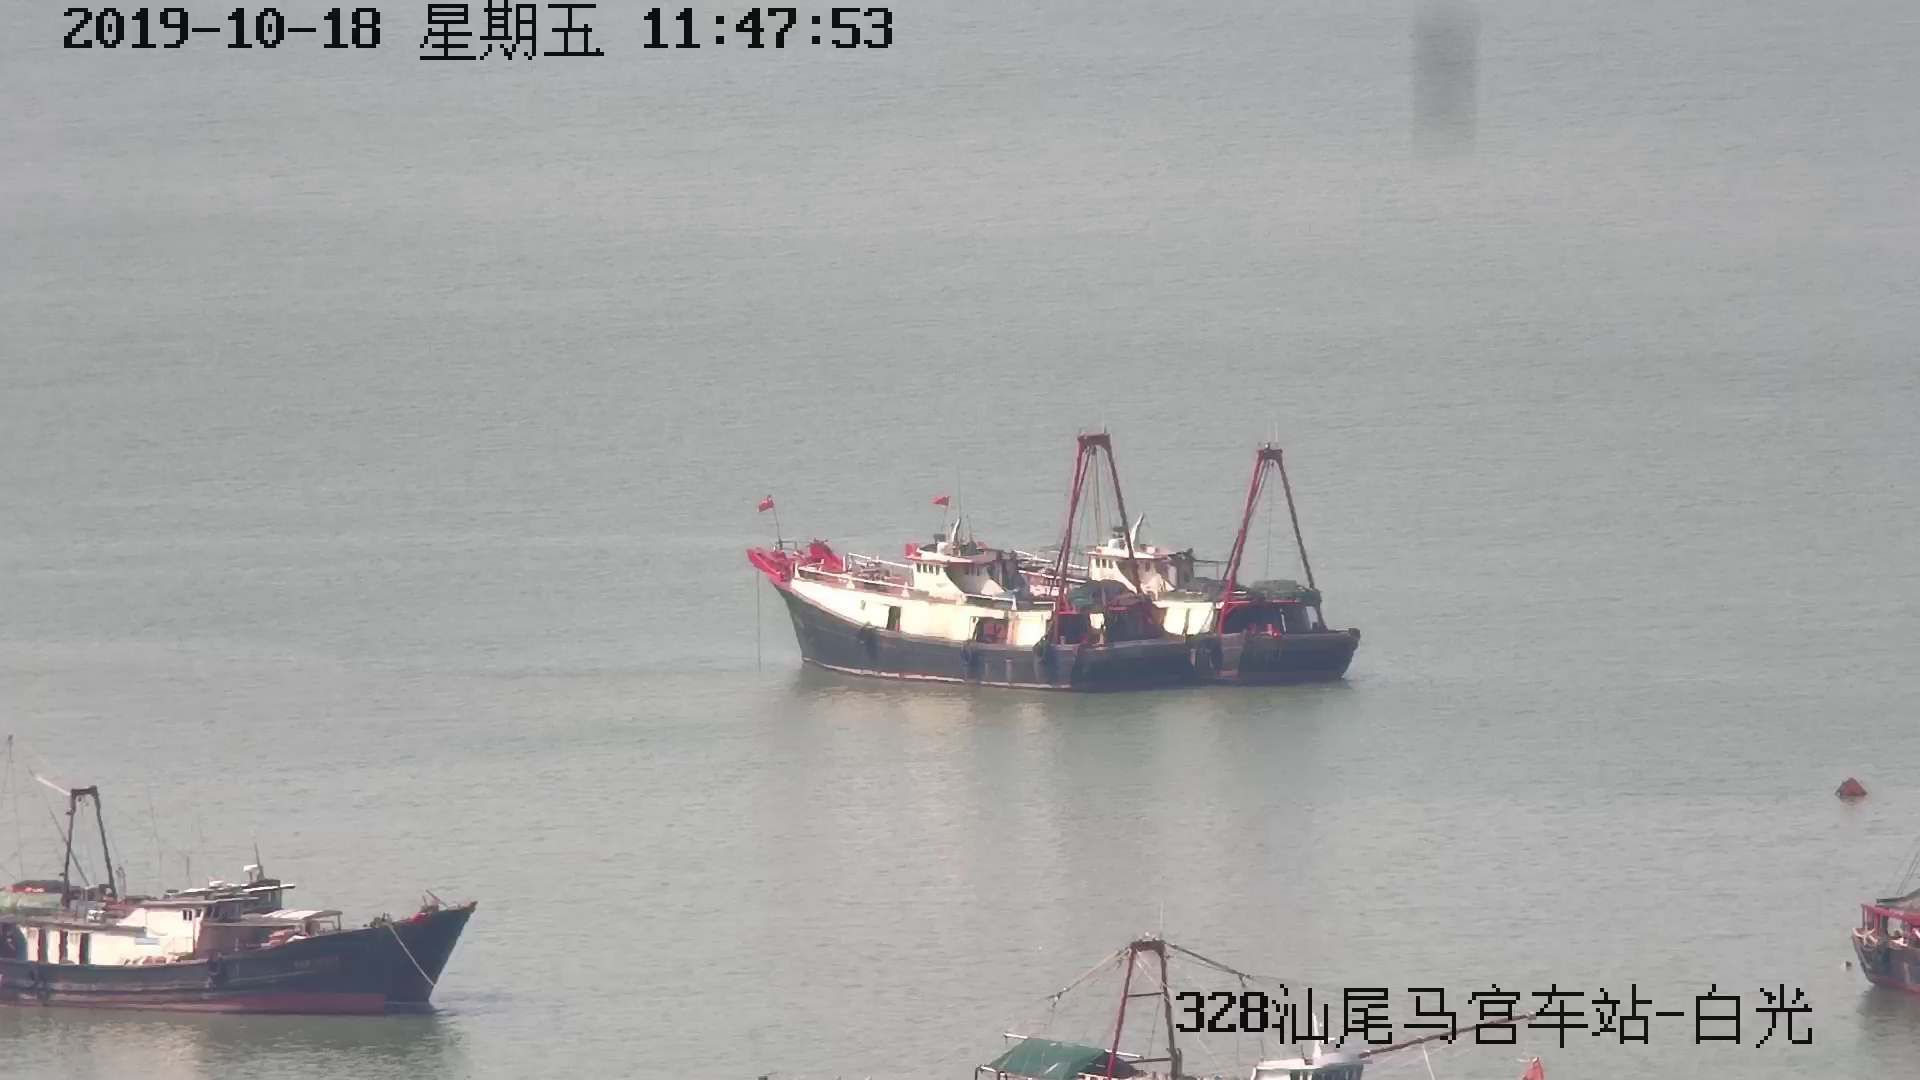ship: (752, 430, 1352, 688), (4, 775, 467, 1017)
